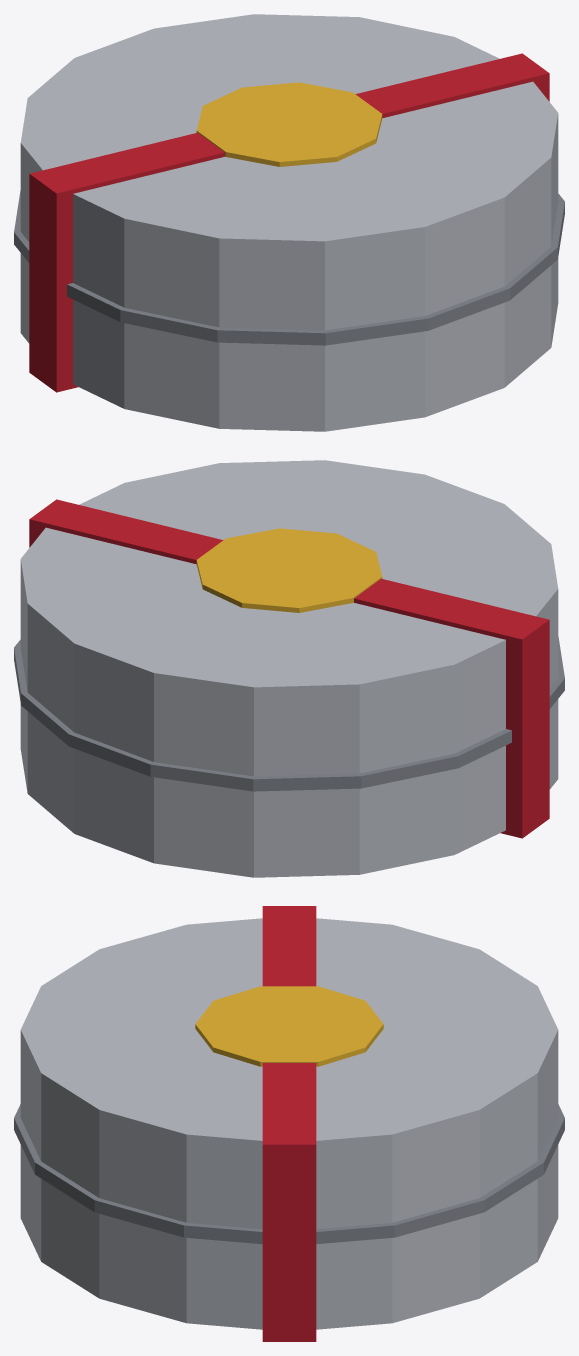
The model's file is festival_film.glb.
3 views of the same model, one above another, from view 1: azimuth 30°, elevation 25°; view 2: azimuth 150°, elevation 25°; view 3: azimuth 270°, elevation 25° (orthographic).
Parts seen in each view (by area): view 1: cans_can_silver, ribbon_ribbon_red, sticker_festival_gold, rims_can_rim; view 2: cans_can_silver, ribbon_ribbon_red, sticker_festival_gold, rims_can_rim; view 3: cans_can_silver, ribbon_ribbon_red, sticker_festival_gold, rims_can_rim.
Boxes of the visible parts, x1,y1,x2,y2 form: cans_can_silver: (20, 14, 558, 431); ribbon_ribbon_red: (29, 53, 549, 392); sticker_festival_gold: (196, 82, 382, 166); rims_can_rim: (14, 190, 564, 345); cans_can_silver: (20, 460, 558, 877); ribbon_ribbon_red: (29, 499, 549, 838); sticker_festival_gold: (196, 528, 382, 612); rims_can_rim: (14, 636, 564, 791); cans_can_silver: (20, 918, 558, 1329); ribbon_ribbon_red: (262, 906, 316, 1341); sticker_festival_gold: (195, 986, 383, 1066); rims_can_rim: (14, 1104, 564, 1244).
Bounding box in the file's own units: 0.42 × 0.163 × 0.41.
